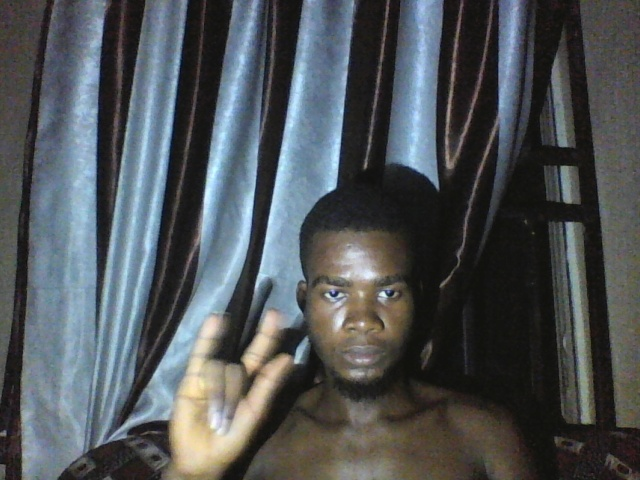i love you: (171, 298, 291, 480)
